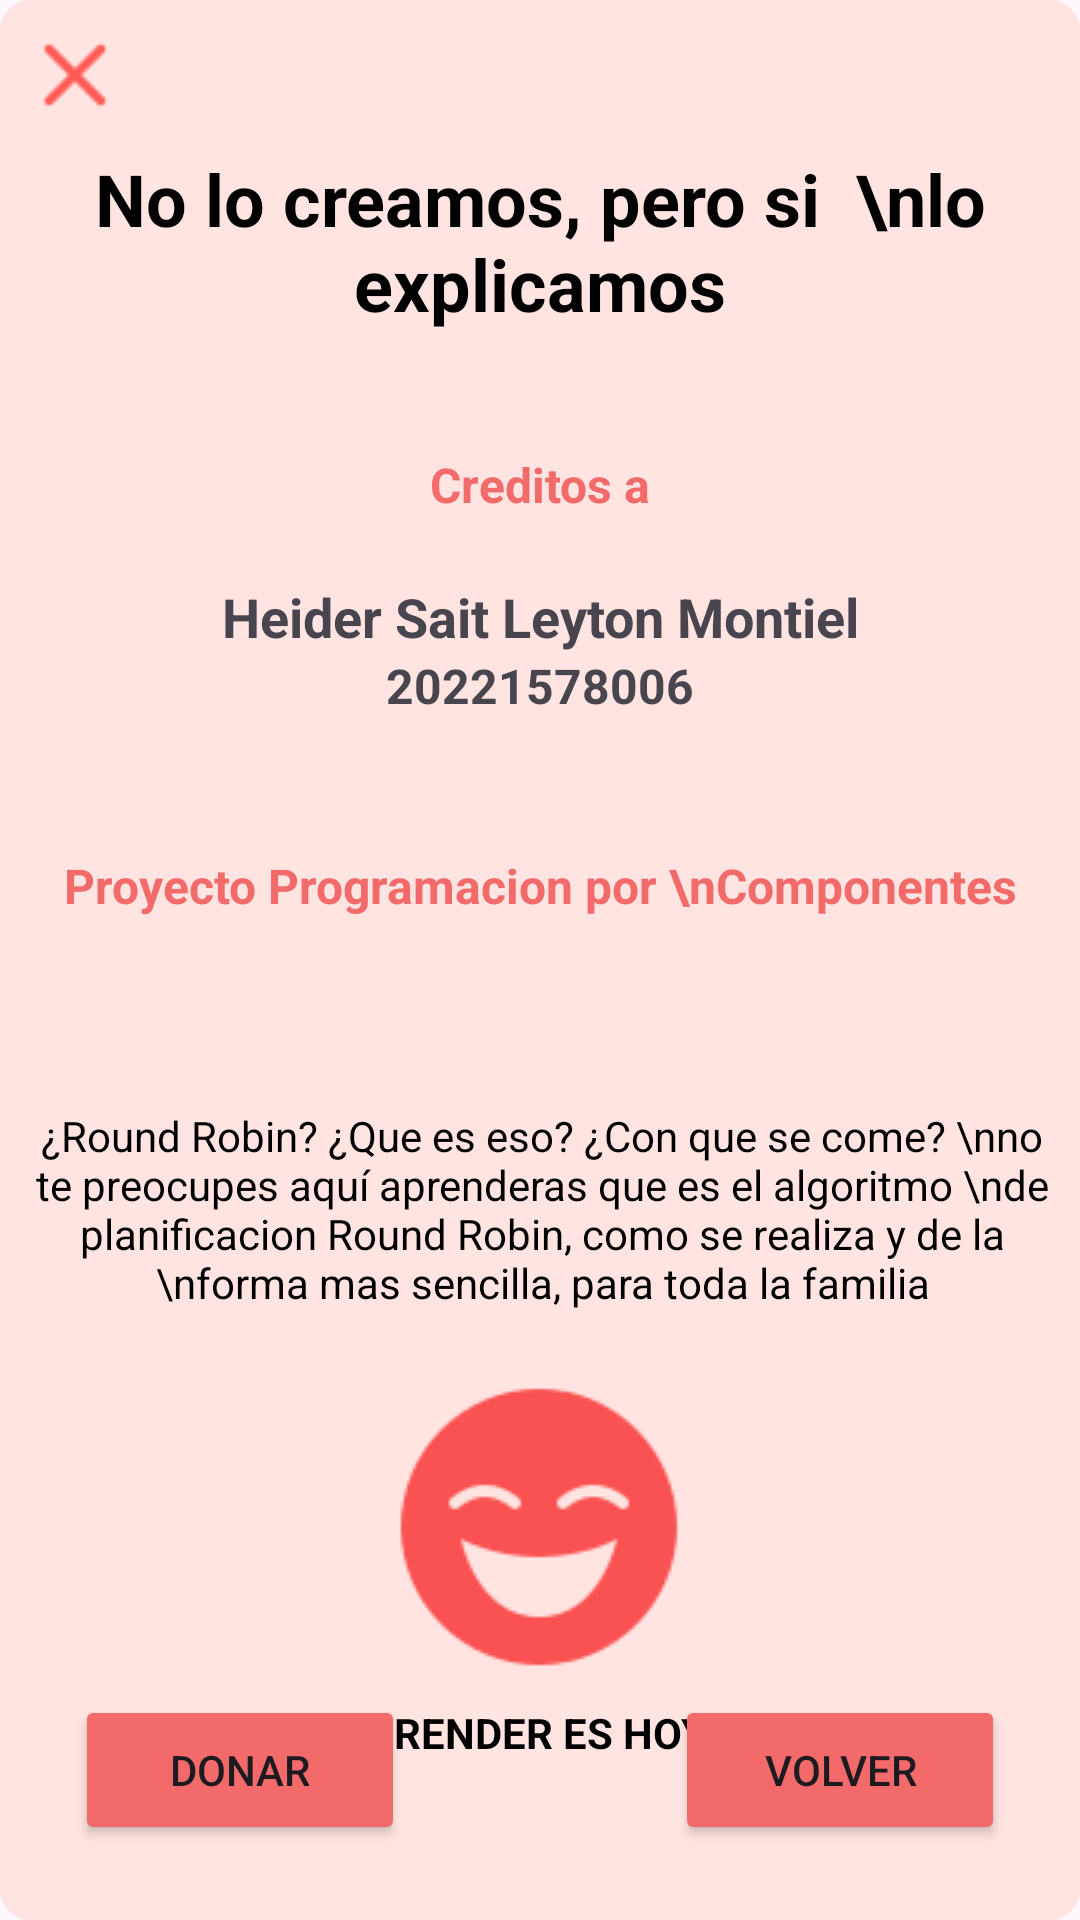

Where to tap for icons on this 1080 × 1920 app screen, as (x,y):
cara feliz: (539,1527)
